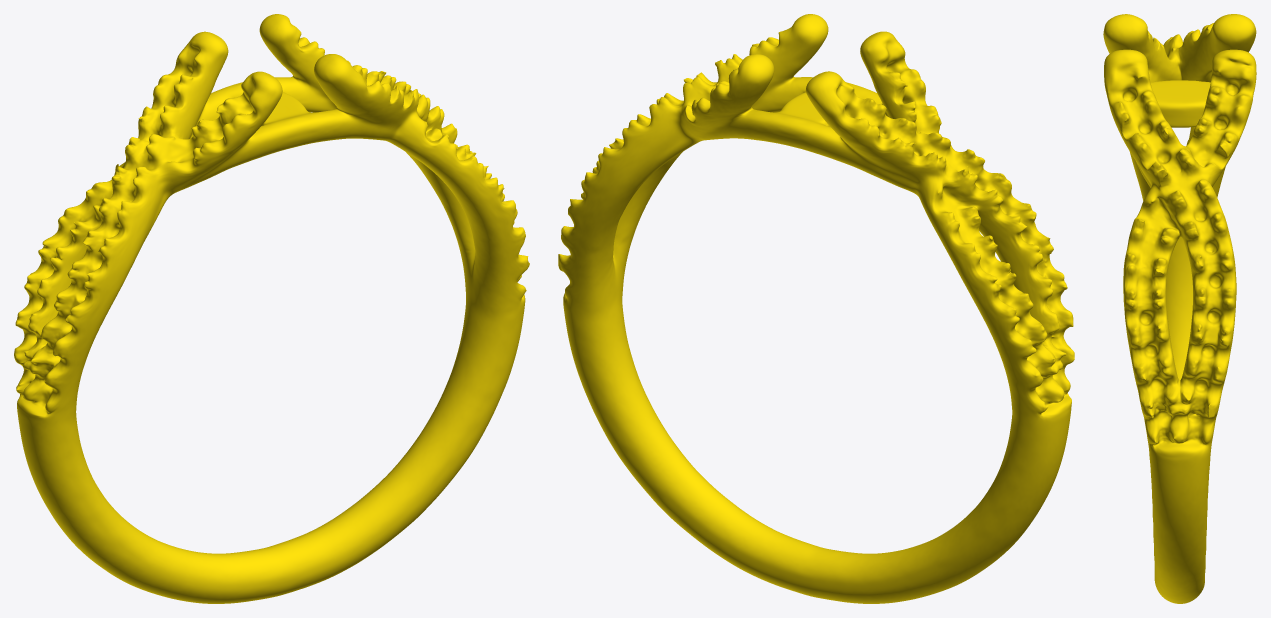
File: Shank_Twist_U Prong_A_No, Hidden Halo_Band.glb
The picture shows the model from 3 angles, left to right: view 1: azimuth 30°, elevation 25°; view 2: azimuth 150°, elevation 25°; view 3: azimuth 270°, elevation 25°; orthographic projection.
Size of the model in its own units: 0.0214 by 0.0225 by 0.00576.
